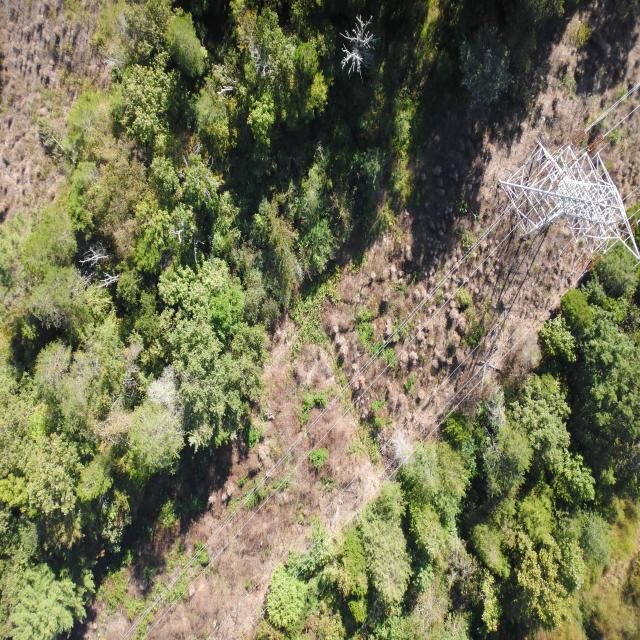Area of Interest: (10, 8, 421, 638), (279, 273, 636, 640)
